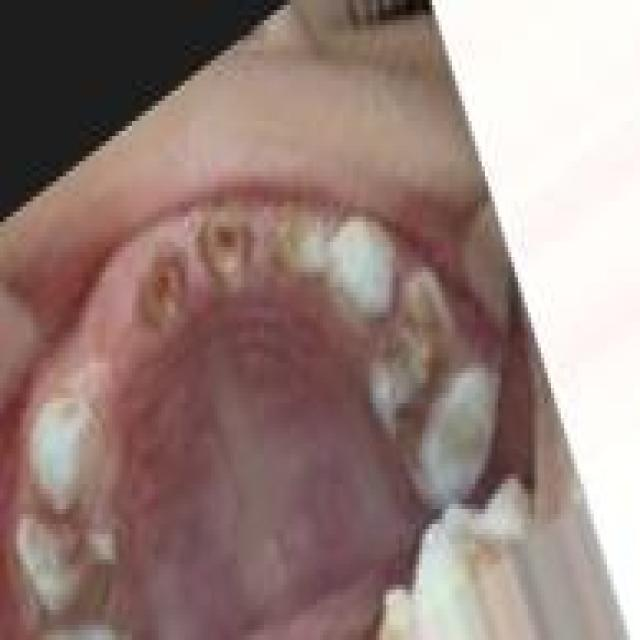caries: (366, 269, 463, 438), (129, 236, 195, 342), (267, 201, 332, 293), (196, 200, 252, 296)
